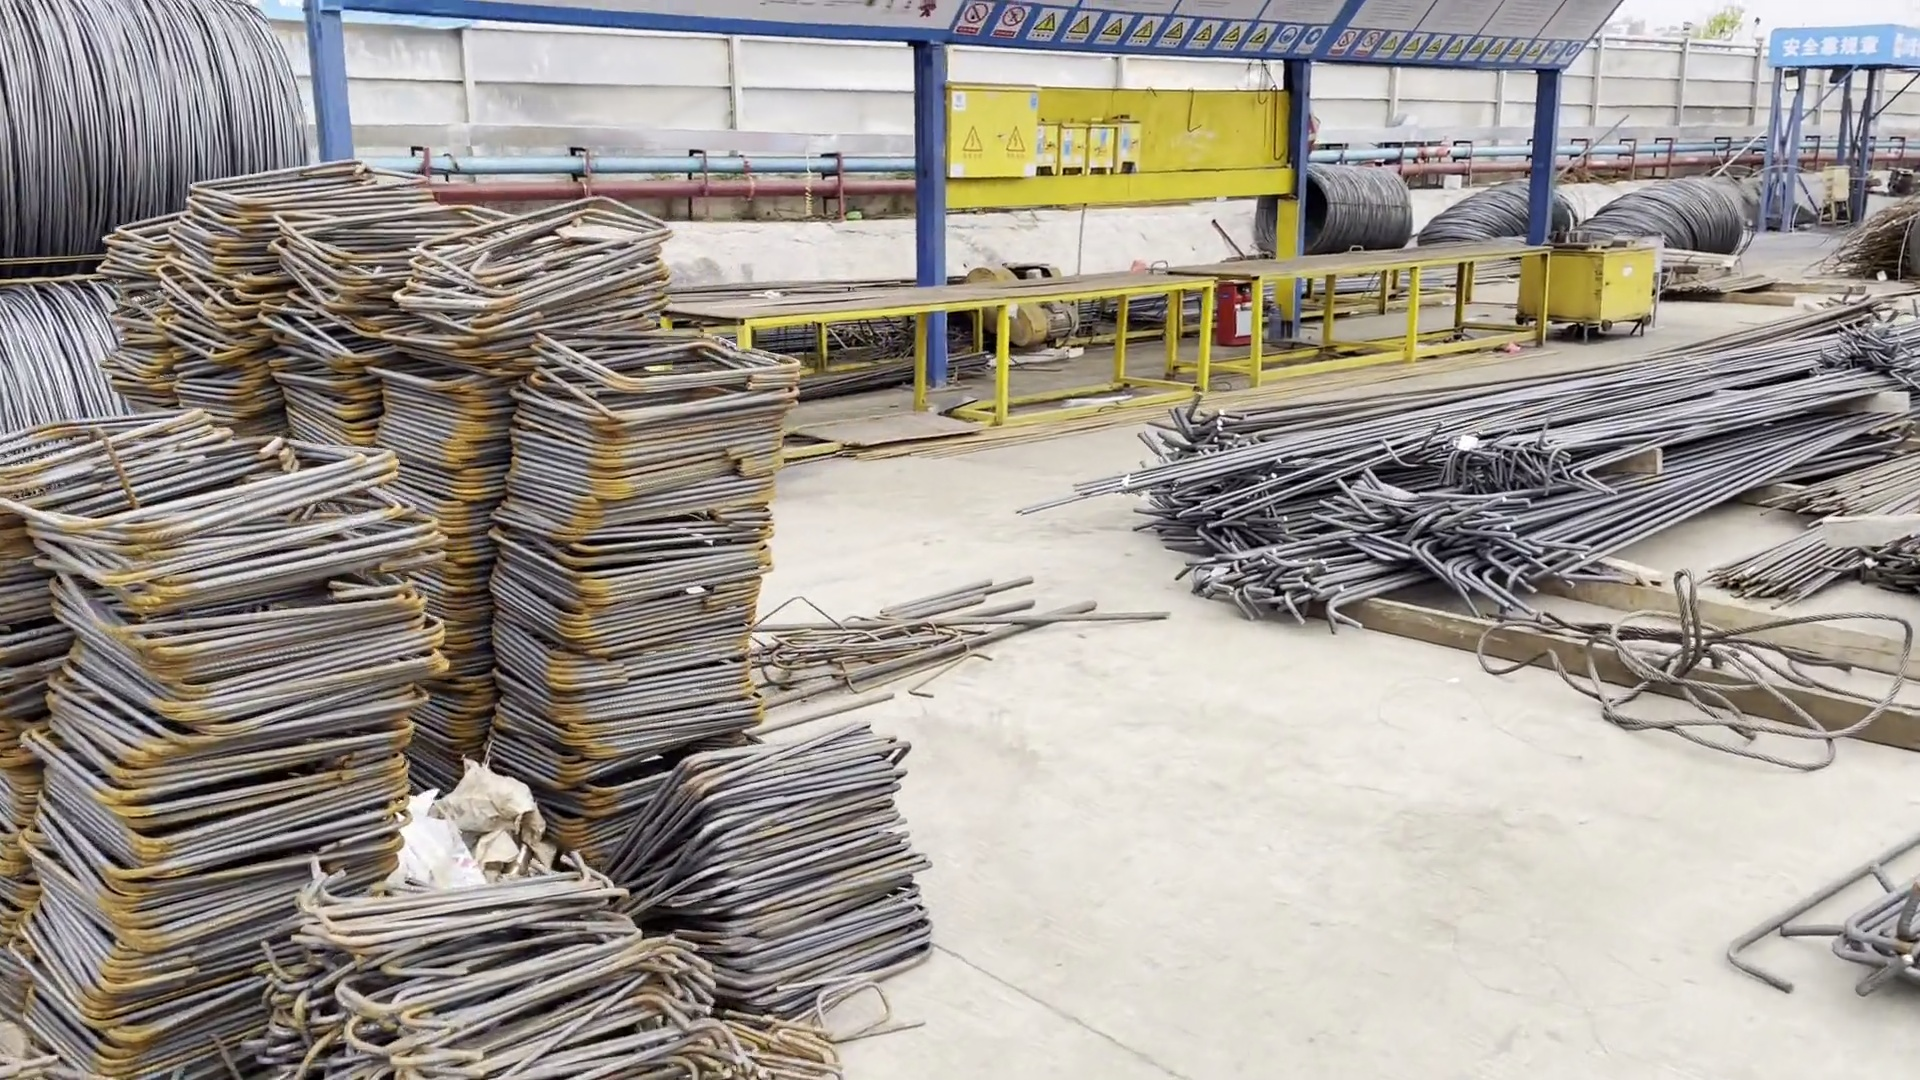ebox: (940, 84, 1042, 182)
rebar: (1141, 290, 1920, 632)
slogan: (1778, 26, 1883, 61)
